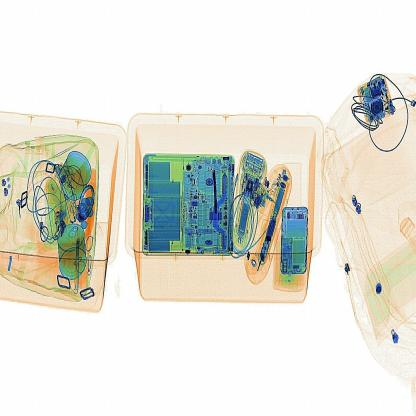knife: (207, 170, 228, 220)
